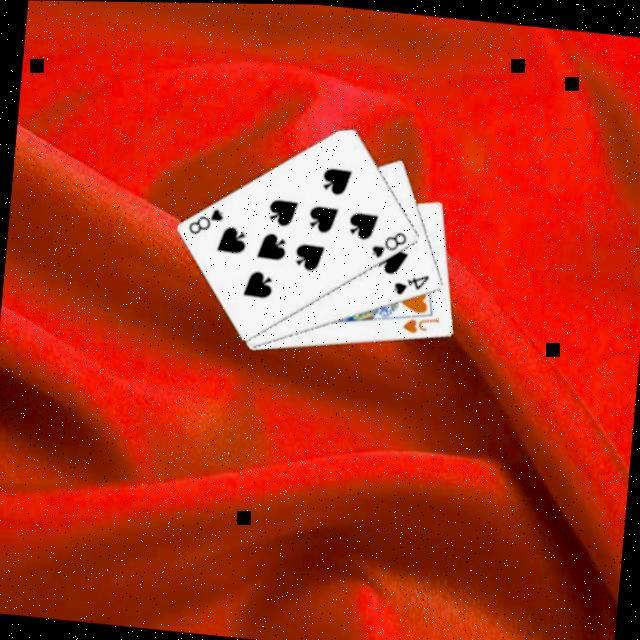4S: (390, 266, 433, 298)
8S: (368, 223, 411, 261), (185, 201, 228, 237)
JH: (400, 308, 443, 336)
